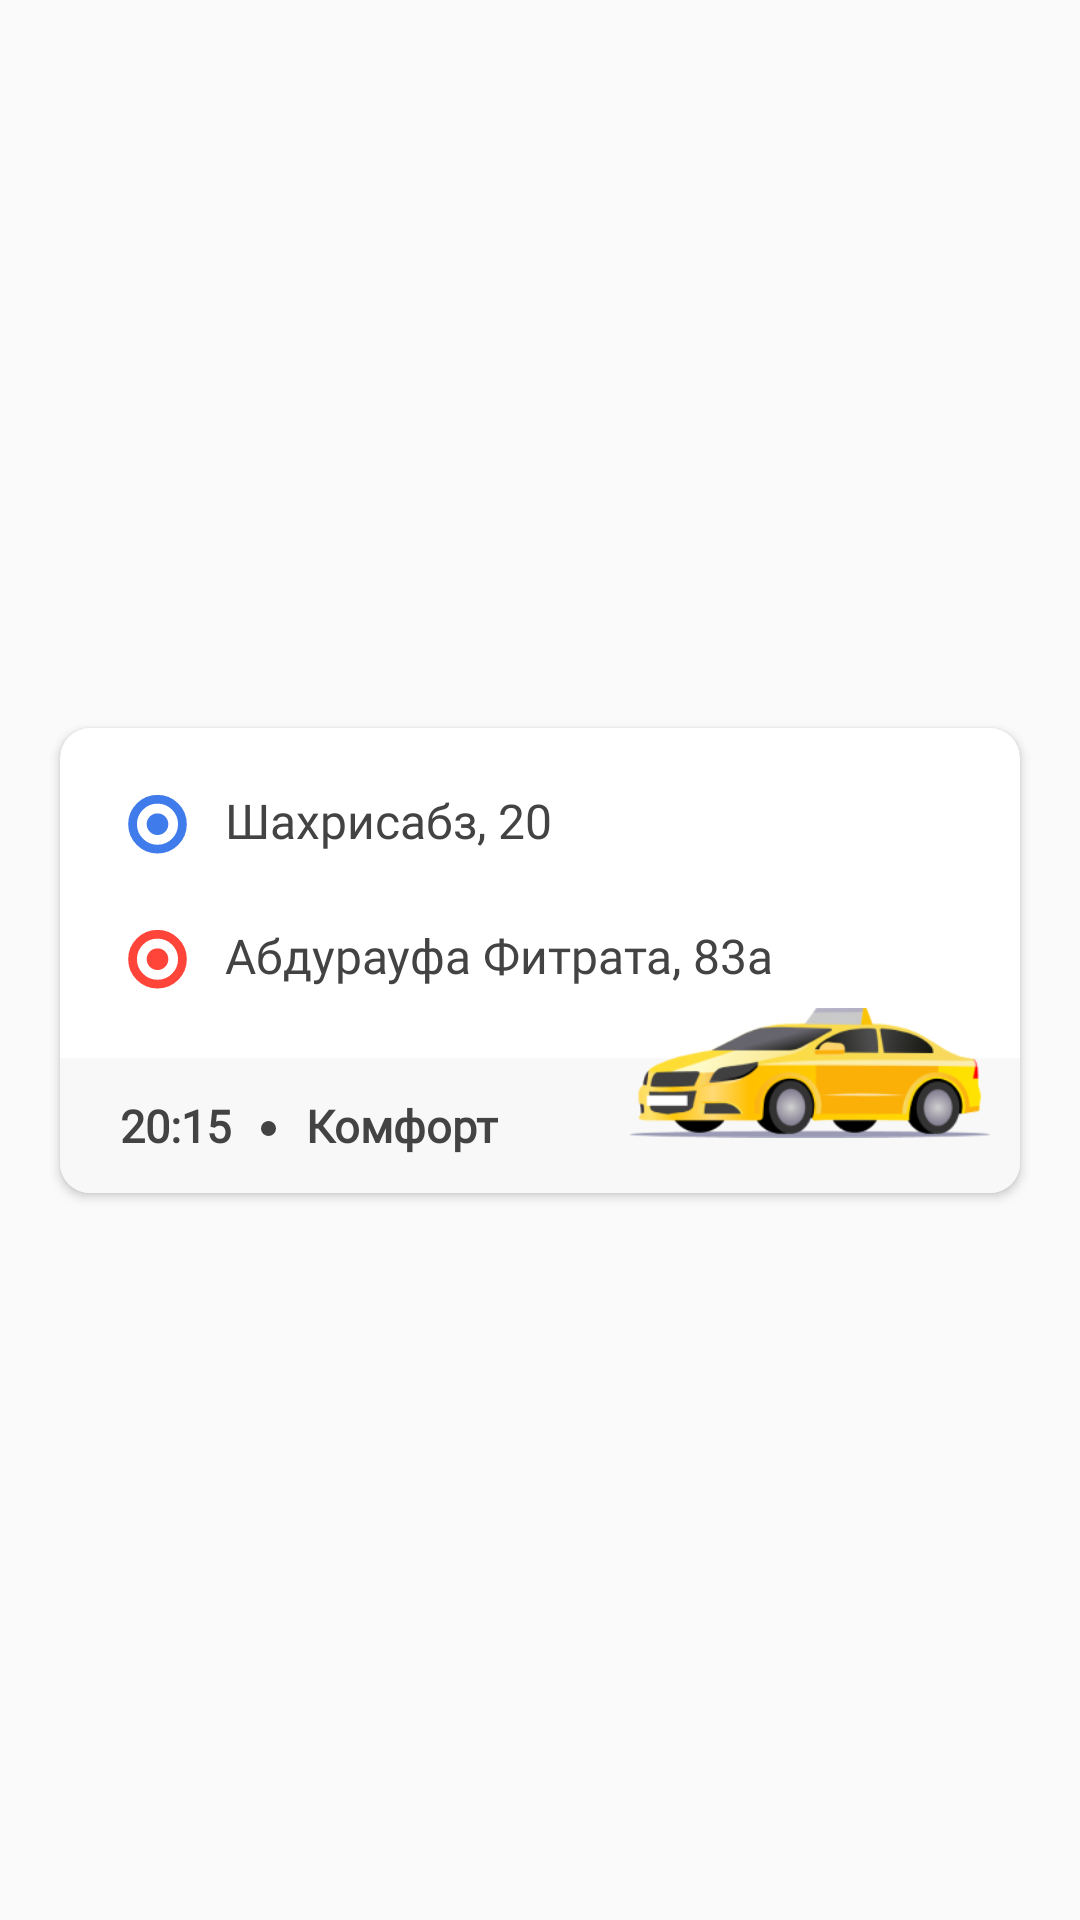

Icons on this 1080×1920 Android screen, each with the point to tap as (x=x, y=y):
end loc: (x=157, y=959)
start loc: (x=157, y=824)
taxi komfort: (x=810, y=1073)
